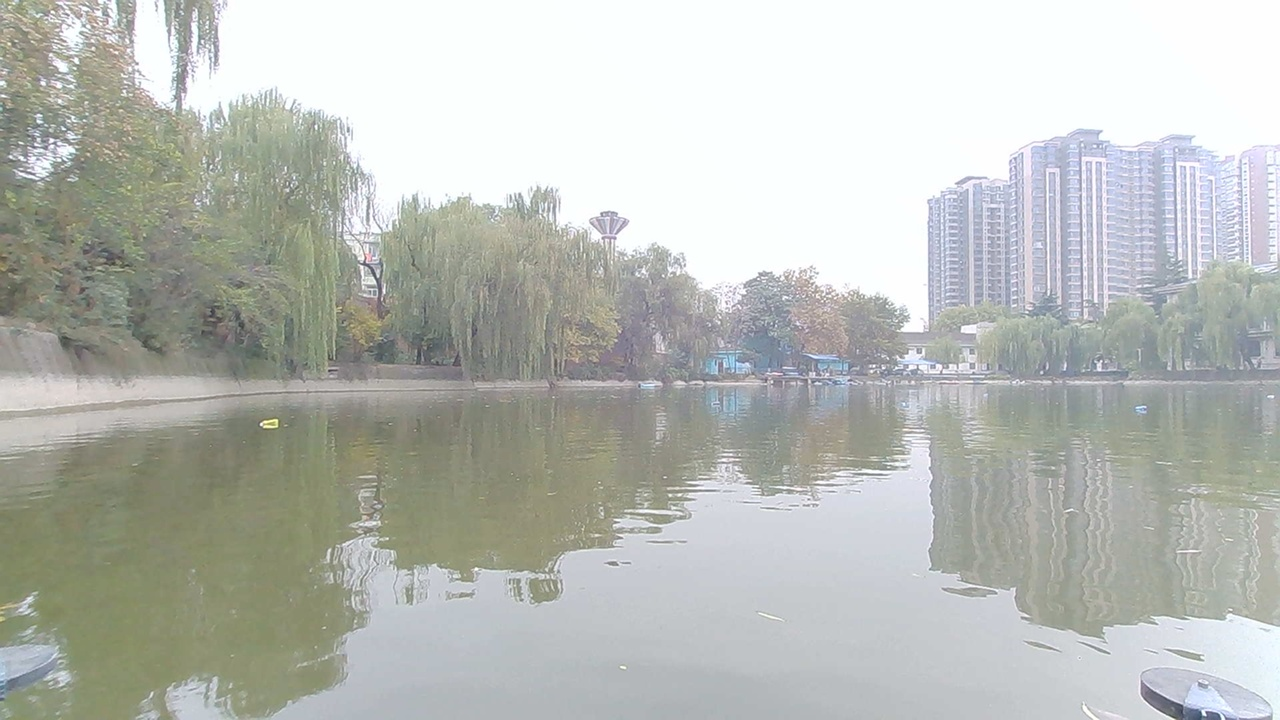bottle: (255, 412, 289, 435), (1130, 396, 1161, 419), (705, 397, 734, 412)
